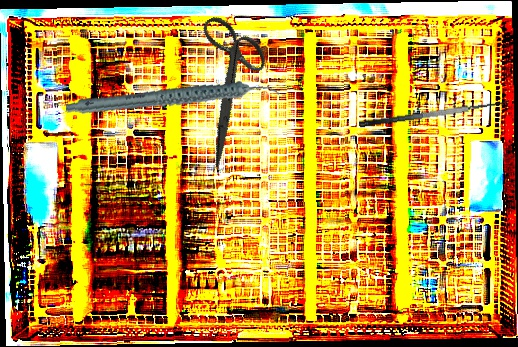Handpiece: (65, 57, 280, 144)
Iris Scissors: (155, 4, 301, 168)
Spatula Surgical: (357, 89, 510, 129)
